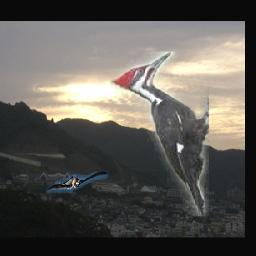Swallow: (46, 172, 108, 193)
Woodpecker: (111, 52, 210, 217)
